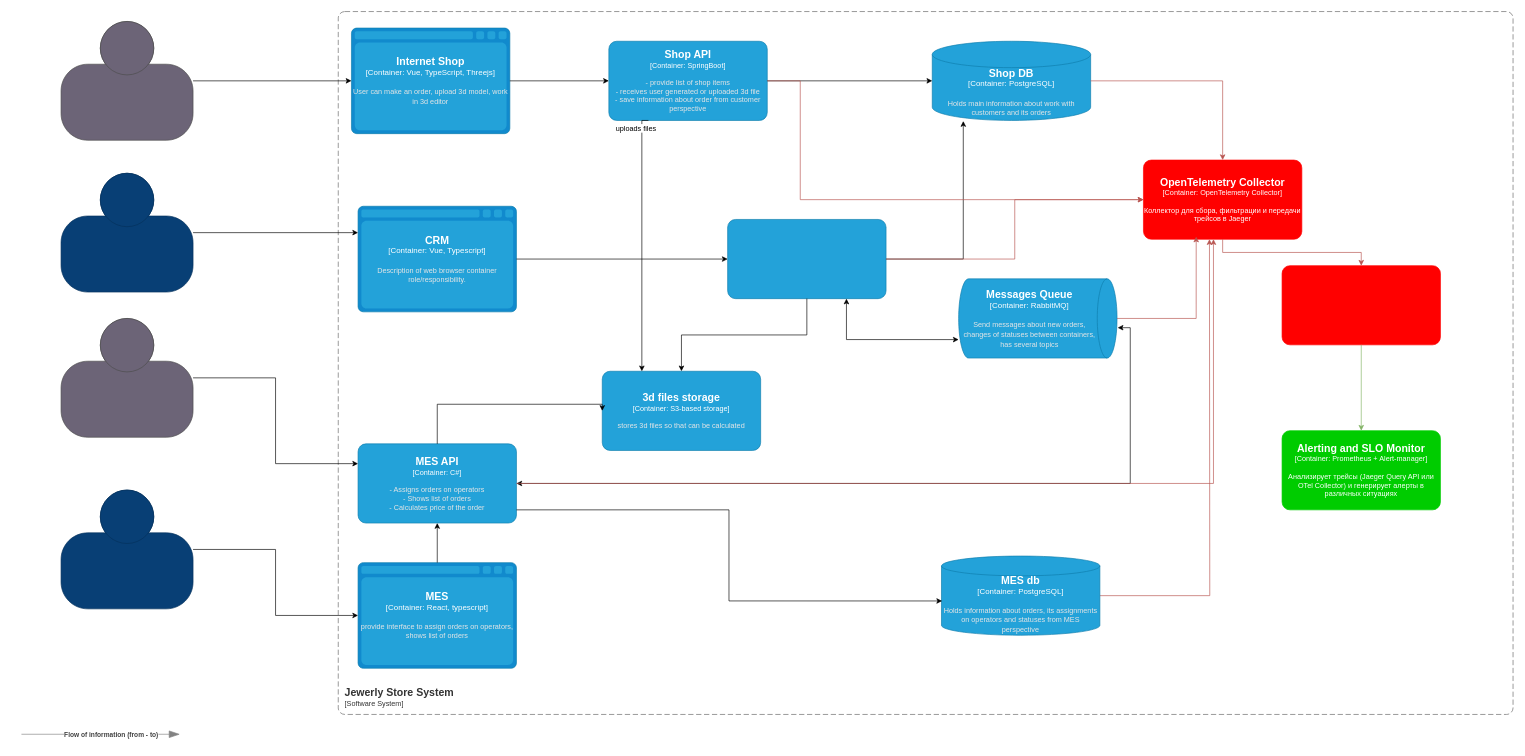
Some shapes in this 1525 by 756 pixel diagram are drawn without their labels. The shapes that lost their labels are listed below. From the top down, each one's box as (x1, y1, x2, y2) in pixels, then its label:
(60, 21, 193, 140): Customer [Person] Description of external person.
(60, 173, 193, 292): Seller [Person] Operates with order, confirms manufacturing for the user
(727, 219, 886, 299): CRM API [Container: SpringBoot] Description of container role/responsibility.
(1281, 265, 1440, 345): Jaeger [Container: Jaeger] UI и хранилище трейсов
(60, 318, 193, 437): API user [Person] Description of external person.
(60, 489, 193, 609): Operator [Person] Takes order in work, manufactures jewerly
